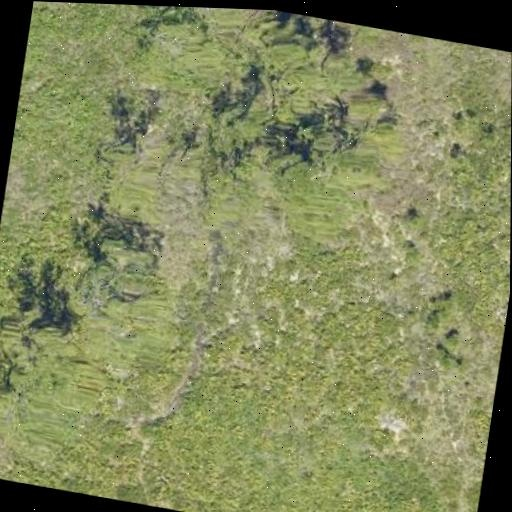tree-top: (79, 220, 186, 337), (264, 133, 376, 244), (249, 26, 363, 135), (0, 321, 85, 420), (198, 94, 260, 158)
